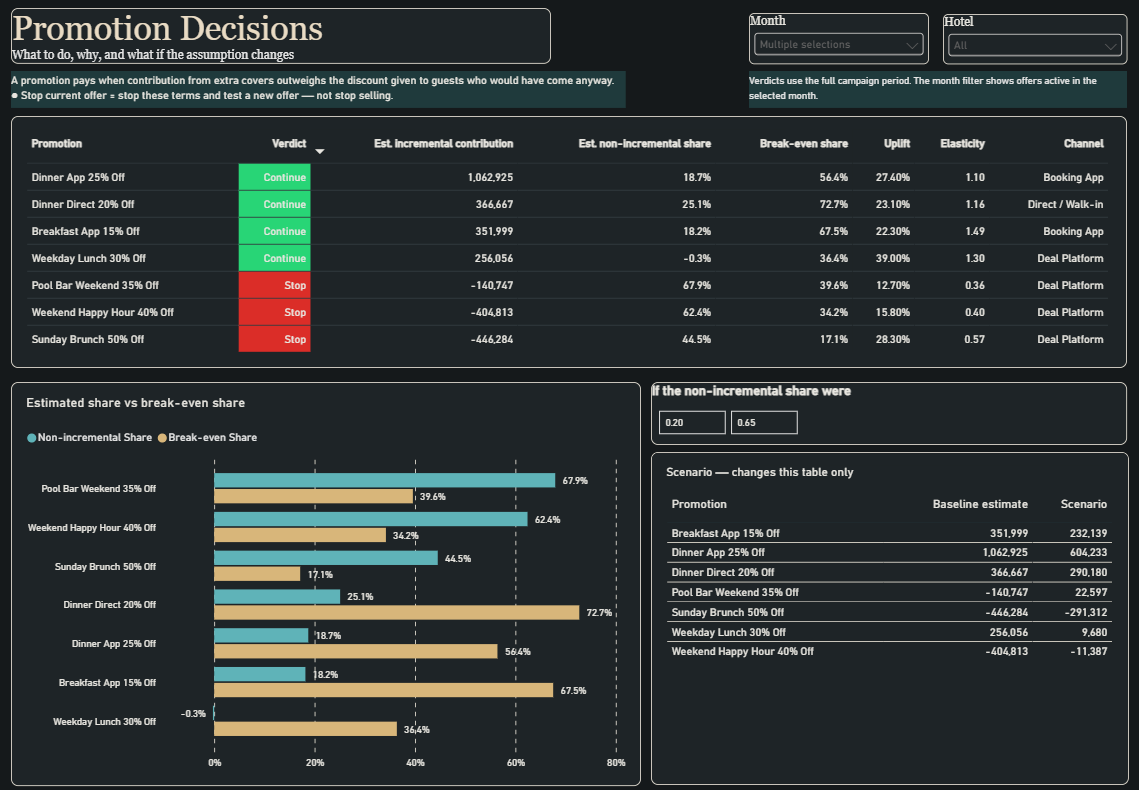

The page's visual inventory and layout, read from the dashboard file:
{"tool":"powerbi","page":{"name":"Promotion Decisions","canvas":[1300,980],"ordinal":1},"visuals":[{"type":"textbox","box":[20,10,600,62],"z":0},{"type":"slicer","title":"Month","fields":{"Values":["DimDate.MonthYear"]},"box":[840,15.6,200,56.7],"z":1000},{"type":"slicer","title":"Hotel","fields":{"Values":["DimHotel.HotelName"]},"box":[1055,16.2,205,56.2],"z":2000},{"type":"textbox","box":[20,80,1240,45],"z":3000},{"type":"tableEx","fields":{"Values":["DimPromo.PromoName","Promo decision.Promo Verdict","Promo decision.Incremental Contribution","Promo decision.Non-incremental Share","Promo decision.Break-even Share","Promo decision.Promo Uplift %","Promo decision.Discount Elasticity","vw_promo_uplift.ChannelName"]},"box":[20,130,1240,280],"z":4000},{"type":"clusteredBarChart","title":"Estimated share vs break-even share","fields":{"Category":["DimPromo.PromoName"],"Y":["Promo decision.Non-incremental Share","Promo decision.Break-even Share"]},"box":[20,425,700,448.8],"z":5000},{"type":"slicer","title":"If the non-incremental share were","fields":{"Values":["Cannibalisation Assumption.Cannibalisation Assumption"]},"box":[731.2,425,528.8,70],"z":6000},{"type":"tableEx","title":"Scenario — changes this table only","fields":{"Values":["DimPromo.PromoName","Promo decision.Incremental Contribution","Promo decision.Incremental Contribution (What-if)"]},"box":[731.2,503.8,531.2,370],"z":7000}]}

Visuals, with their boxes on the page's 1300x980 design canvas (x1, y1, x2, y2). These are canvas units, not pixel positions in the 1139x790 screenshot, which may show the page scaled, cropped or inside an application window:
textbox: 20 10 620 72
"Month" slicer: 840 16 1040 72
"Hotel" slicer: 1055 16 1260 72
textbox: 20 80 1260 125
tableEx - DimPromo.PromoName x Promo decision.Promo Verdict: 20 130 1260 410
"Estimated share vs break-even share" clusteredBarChart: 20 425 720 874
"If the non-incremental share were" slicer: 731 425 1260 495
"Scenario — changes this table only" tableEx: 731 504 1262 874
